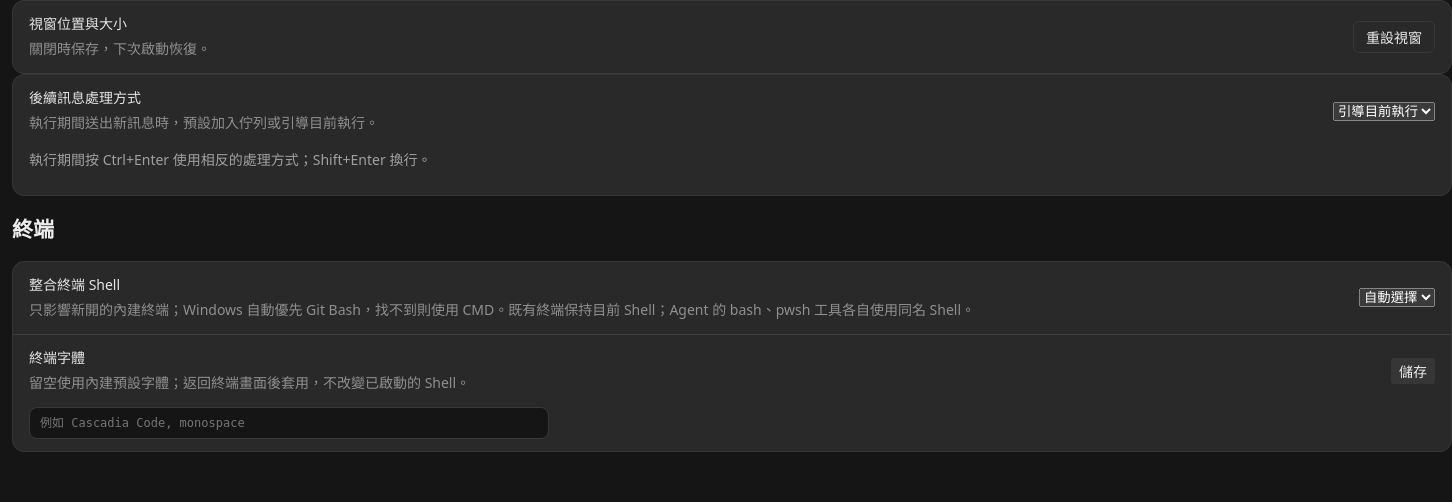
Test: retains the accepted follow-up default when saving a different setting fails
Select "加入佇列" in the dropdown named "後續訊息處理方式" at x=1384, y=111, box [1333,102,1435,120]
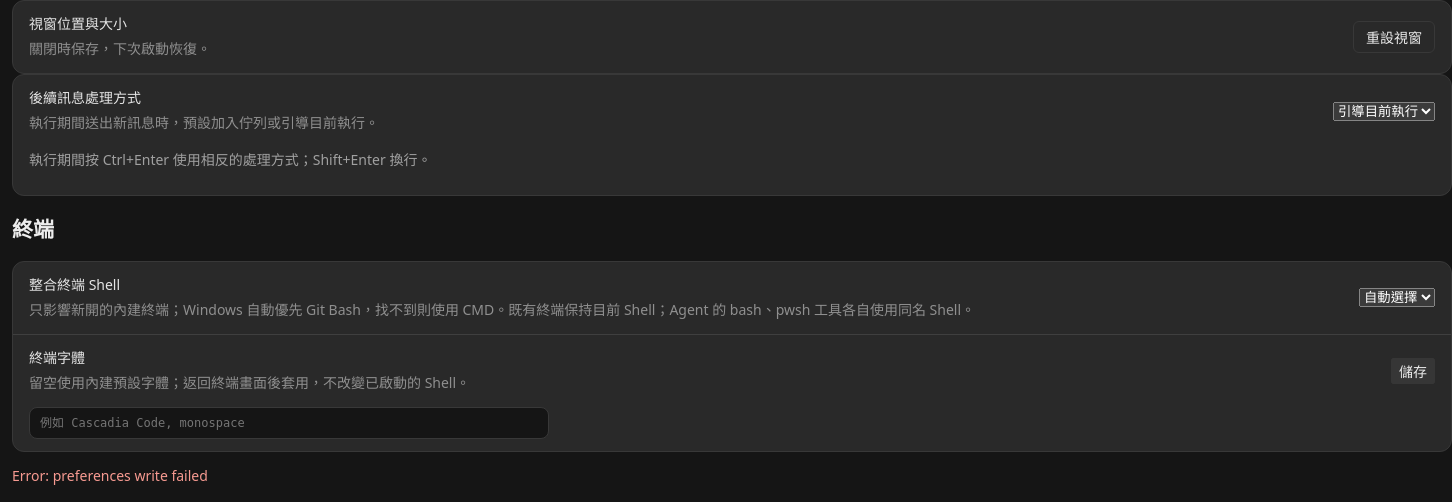
Expected: the message "Error: preferences write failed" is shown, [12,466,208,485]
